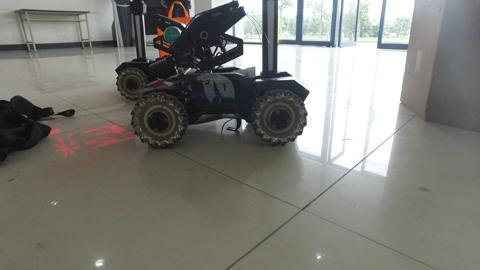chariot: (126, 1, 322, 149)
